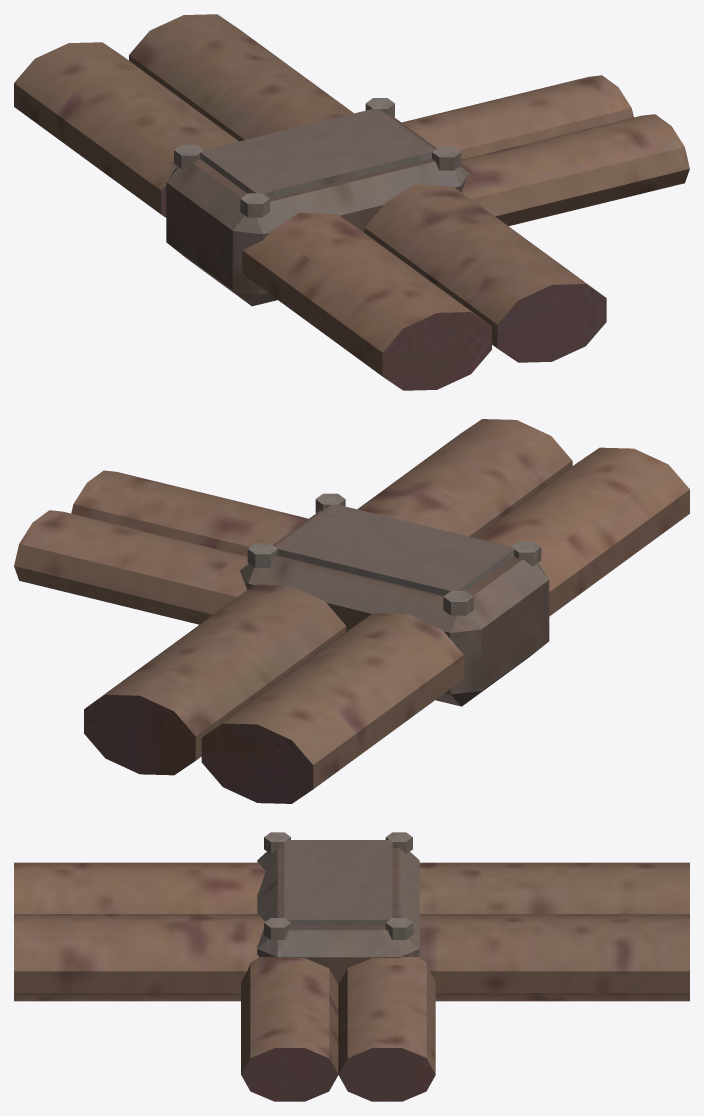
The model's file is heat-pipe-t-right.glb.
3 views of the same model, one above another, from view 1: azimuth 30°, elevation 25°; view 2: azimuth 150°, elevation 25°; view 3: azimuth 270°, elevation 25° (orthographic). The views are drawn at different scales.
Parts seen in each view (by area): view 1: body; view 2: body; view 3: body.
Part boxes in pixels (x1,y1,x2,y2): body: [14, 14, 689, 390]; body: [14, 419, 689, 803]; body: [14, 832, 689, 1101].
Size of the model in its own units: 0.685 by 0.16 by 1.
1 material, 1 textured.
